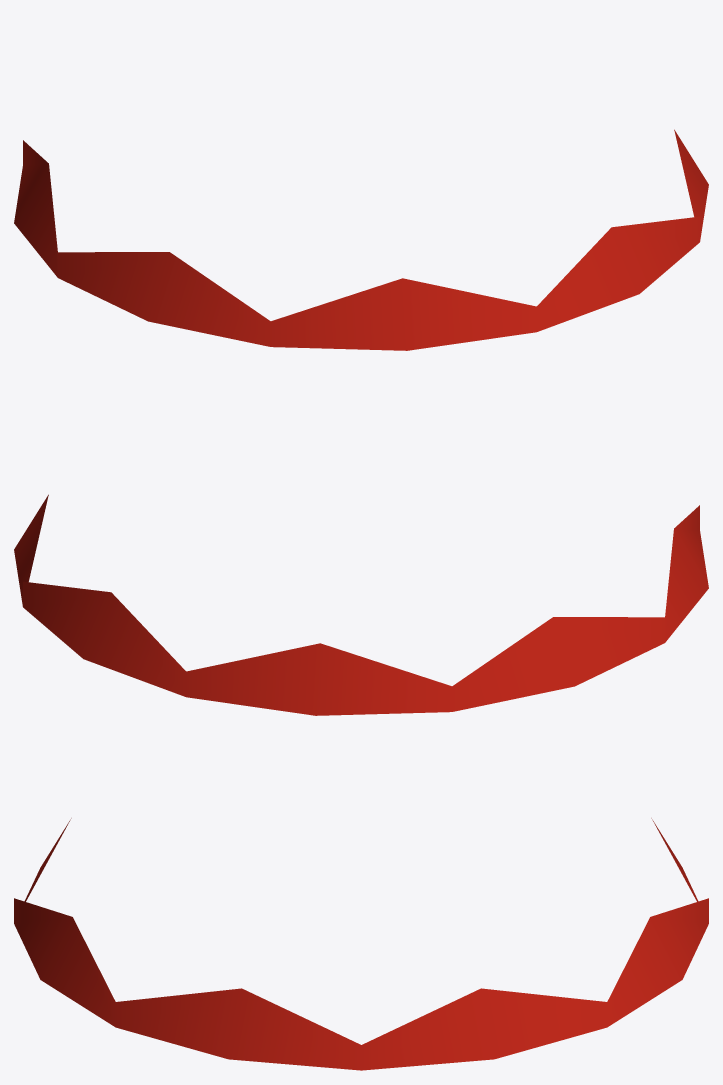
File: friendzone.001.glb
3 renders of one model, top to bottom at view 1: azimuth 30°, elevation 25°; view 2: azimuth 150°, elevation 25°; view 3: azimuth 270°, elevation 25°, orthographic.
Visible parts, largest first — view 1: friendzone.001; view 2: friendzone.001; view 3: friendzone.001.
Part boxes in pixels (x1,y1,x2,y2): friendzone.001: (14,129,708,350); friendzone.001: (14,494,708,715); friendzone.001: (14,818,708,1070).
Size of the model in its own units: 12 by 1.09 by 12.
